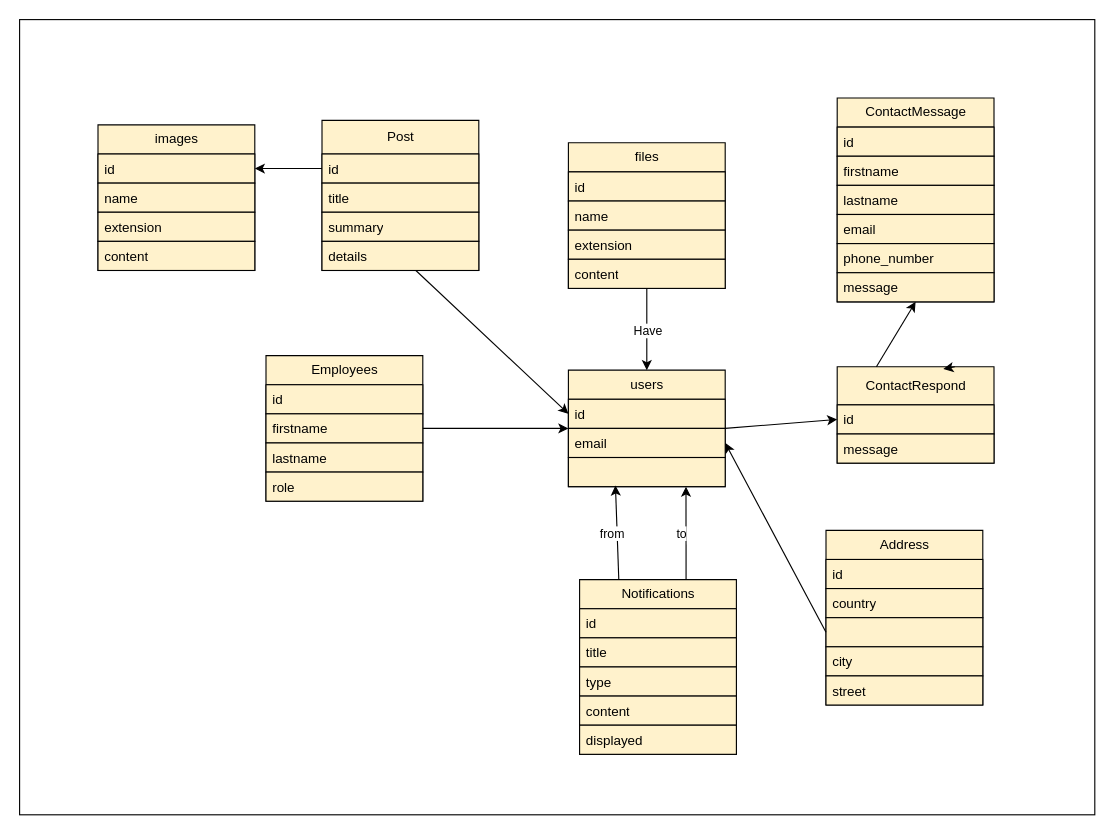
Image size: 1114x834. Some labels were removed from this diagram. The shapes that lost their labels are listed below. From the top down, each one's centre as x and y in pixels, then its label:
(646,471): password
(904,632): state
